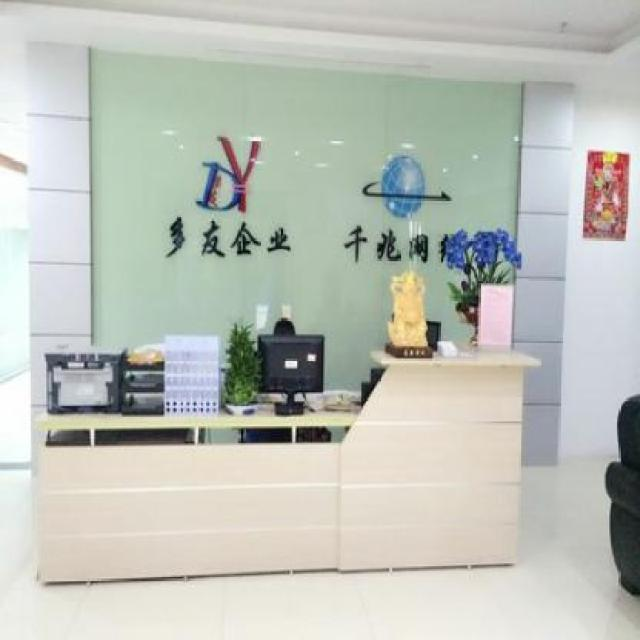frontdesk: (28, 323, 543, 595)
